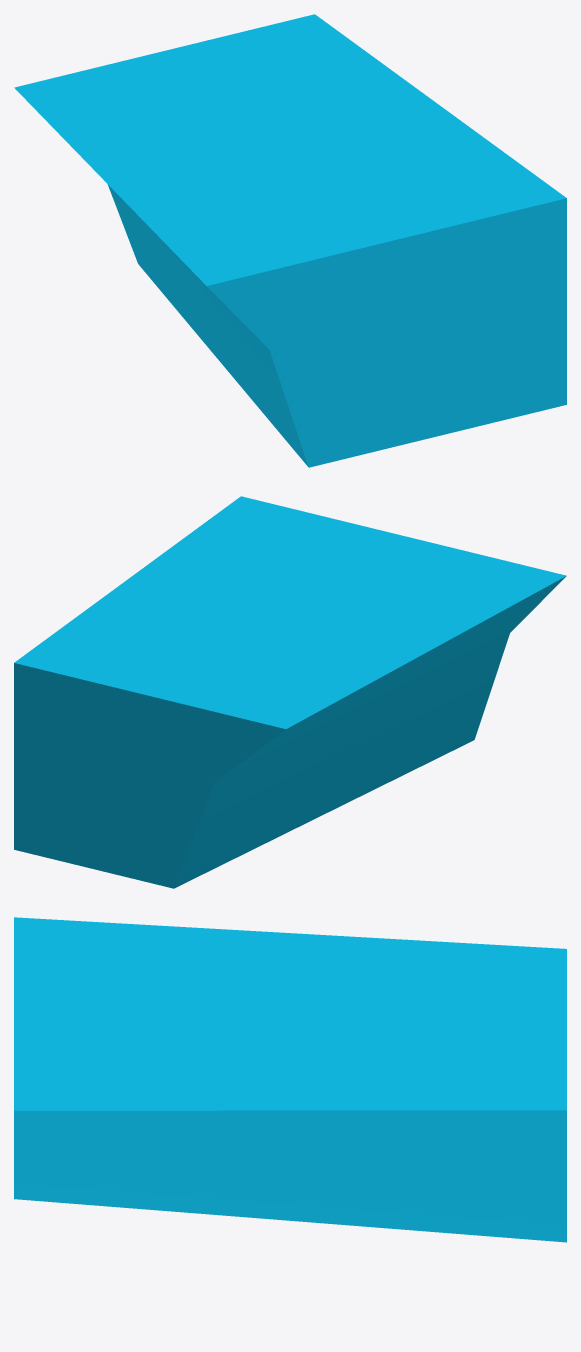
The model's file is woda_1_1_1.FBX.
3 views of the same model, one above another, from view 1: azimuth 30°, elevation 25°; view 2: azimuth 150°, elevation 25°; view 3: azimuth 270°, elevation 25° (orthographic). The views are drawn at different scales.
Parts seen in each view (by area): view 1: woda_1_1_1; view 2: woda_1_1_1; view 3: woda_1_1_1.
Boxes of the visible parts, left/top/right/bottom form: woda_1_1_1: left=14, top=14, right=566, bottom=467; woda_1_1_1: left=14, top=496, right=566, bottom=888; woda_1_1_1: left=14, top=917, right=566, bottom=1242.
Bounding box in the file's own units: 9.54 × 5.23 × 11.53.
